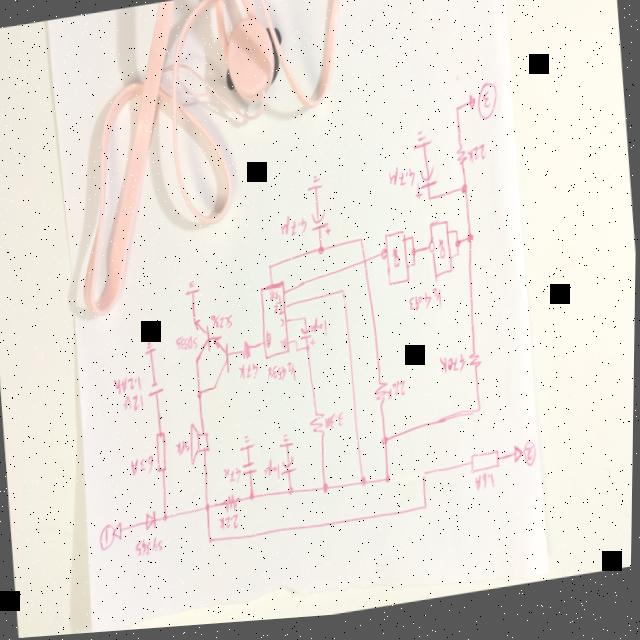capacitor: (412, 169, 439, 206), (309, 213, 331, 242), (299, 329, 317, 353), (281, 461, 297, 481), (242, 463, 259, 481)
crossover: (362, 261, 369, 271)
diode: (145, 509, 159, 536)
ground: (411, 134, 433, 158), (304, 178, 324, 198), (183, 280, 202, 300), (239, 436, 257, 456), (279, 437, 295, 453), (142, 342, 157, 359)
junction: (380, 438, 390, 454), (459, 188, 468, 203), (322, 485, 331, 499), (287, 488, 296, 501), (317, 248, 326, 261), (360, 480, 368, 494), (249, 493, 257, 507), (197, 390, 204, 403), (204, 503, 211, 516), (385, 478, 392, 491), (454, 243, 461, 256), (466, 239, 473, 251), (162, 514, 169, 525), (453, 110, 460, 120), (476, 411, 483, 421), (411, 253, 417, 263), (304, 348, 311, 356), (208, 540, 214, 549), (423, 509, 429, 518), (422, 476, 428, 485), (358, 241, 364, 249), (267, 266, 273, 274), (340, 293, 346, 301), (409, 239, 414, 247), (453, 234, 458, 242), (427, 201, 432, 208), (411, 266, 416, 273), (302, 319, 307, 326), (456, 258, 461, 264), (293, 342, 298, 348), (295, 351, 300, 357)
resistor: (469, 454, 501, 483), (154, 432, 170, 478), (373, 382, 390, 414), (309, 415, 327, 445), (223, 496, 241, 517), (467, 356, 483, 378), (454, 151, 467, 174), (241, 342, 253, 365)
source: (146, 381, 165, 401)
terminal: (512, 450, 524, 472), (113, 523, 125, 543), (466, 99, 477, 119)
text: (473, 86, 499, 129), (406, 293, 444, 320), (278, 216, 309, 244), (387, 169, 416, 197), (266, 363, 298, 388), (134, 536, 166, 560), (112, 373, 143, 397), (439, 358, 467, 384), (129, 455, 156, 479), (208, 313, 235, 336), (474, 477, 498, 501), (385, 384, 408, 407), (237, 364, 261, 386), (121, 394, 145, 416), (466, 149, 488, 171), (309, 320, 329, 344), (99, 525, 116, 553), (175, 336, 198, 356), (324, 414, 345, 435), (263, 460, 281, 484), (222, 468, 242, 489), (524, 446, 538, 476), (219, 516, 241, 535), (175, 441, 192, 461), (269, 291, 283, 309), (273, 305, 284, 320), (279, 340, 288, 355), (265, 335, 272, 351), (279, 321, 286, 331)
transistor: (210, 335, 232, 394), (191, 318, 212, 367)
